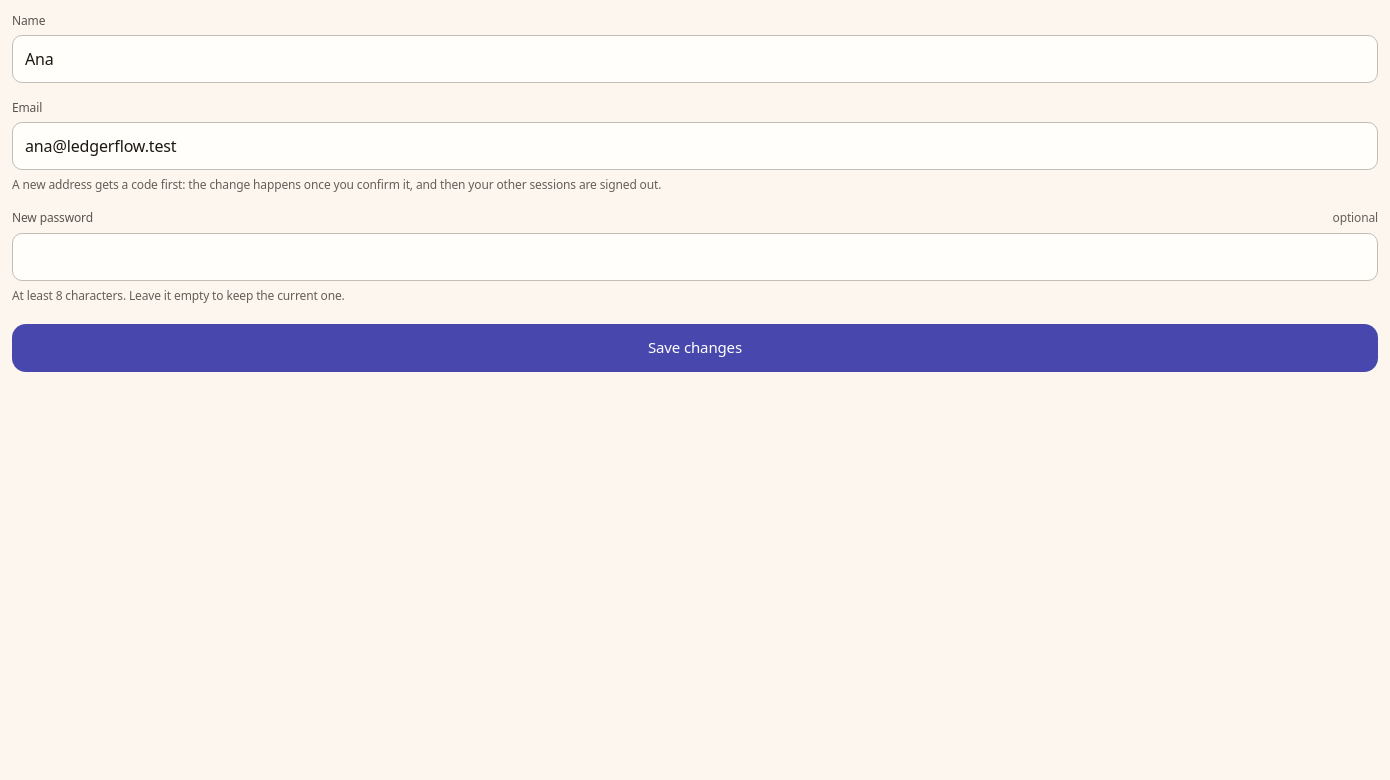
Test: ProfileView › saves nothing when Cloudflare's check is refused, not even the password
Type "Str0ngPass!" into the password field labelled "New password optional" at (695, 257), box [12, 233, 1378, 281]
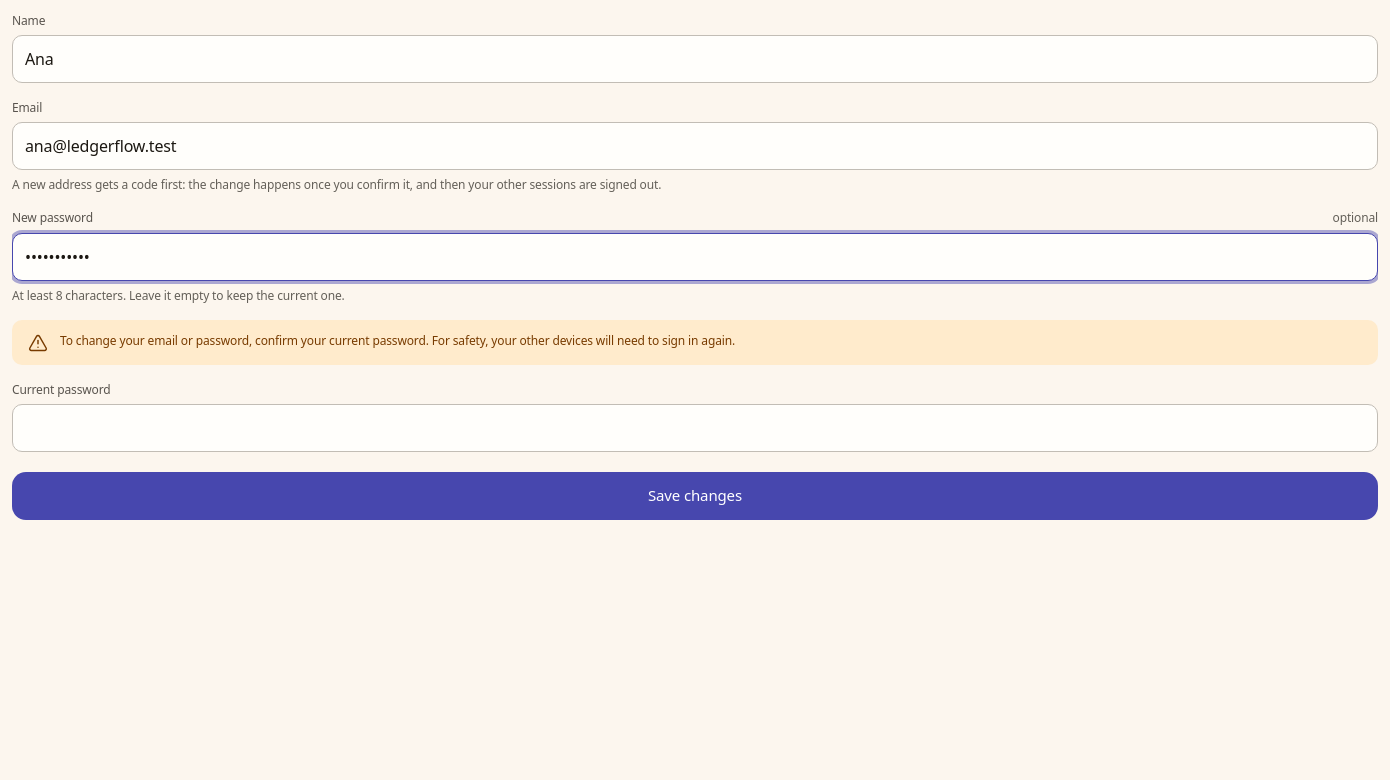
Replace the text in the field labelled "Email" with "new@ledgerflow.test" at (695, 146), box [12, 122, 1378, 170]
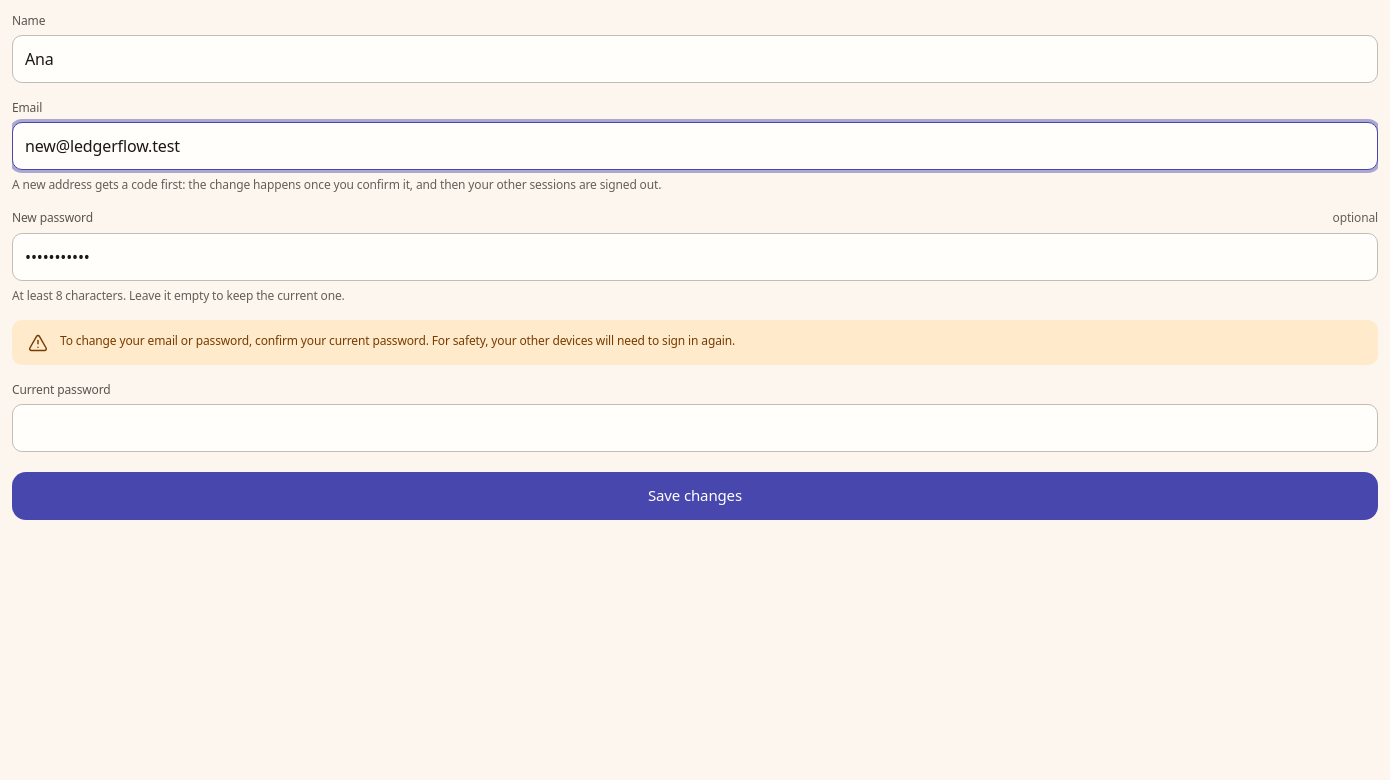
Type "OldPass!2026" into the password field labelled "Current password" at (695, 428), box [12, 404, 1378, 452]
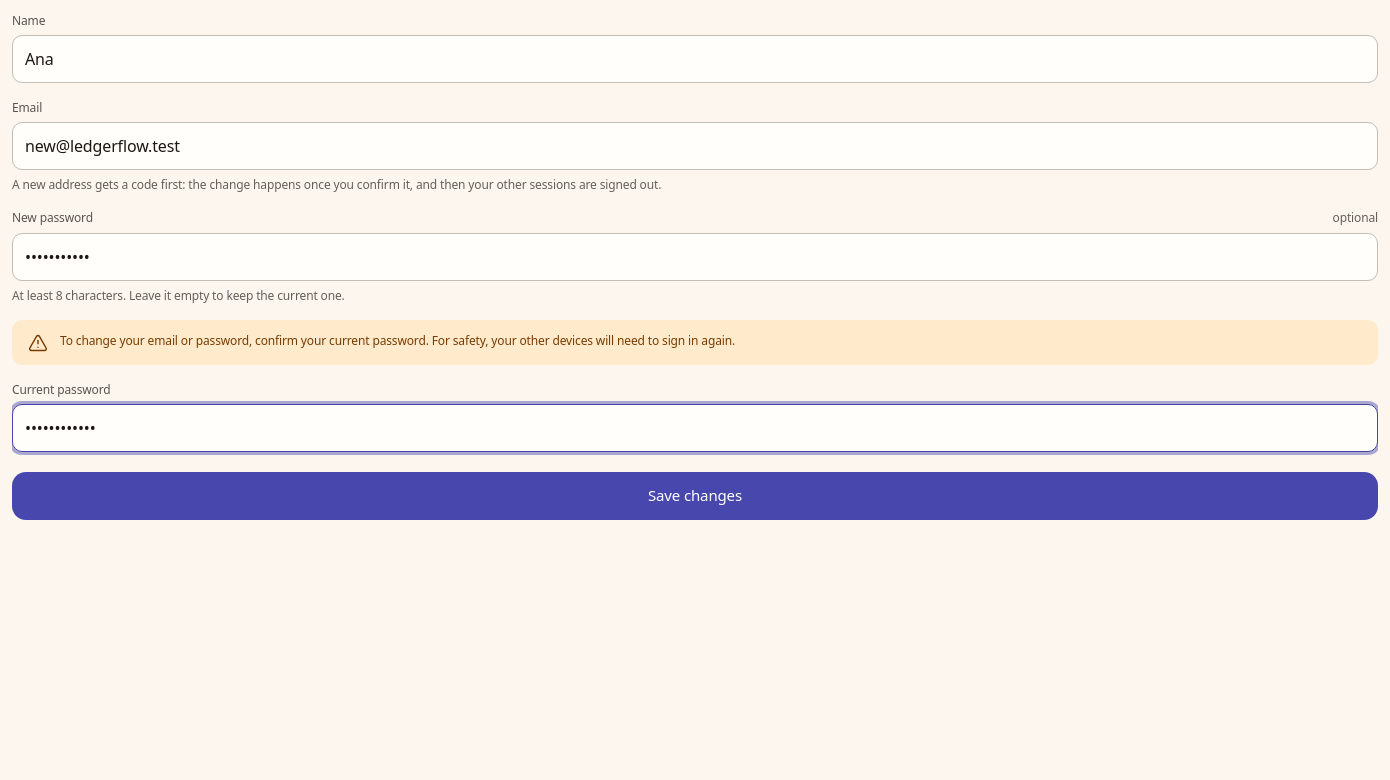
Click the button named "Save changes" at (695, 496), box [12, 472, 1378, 520]
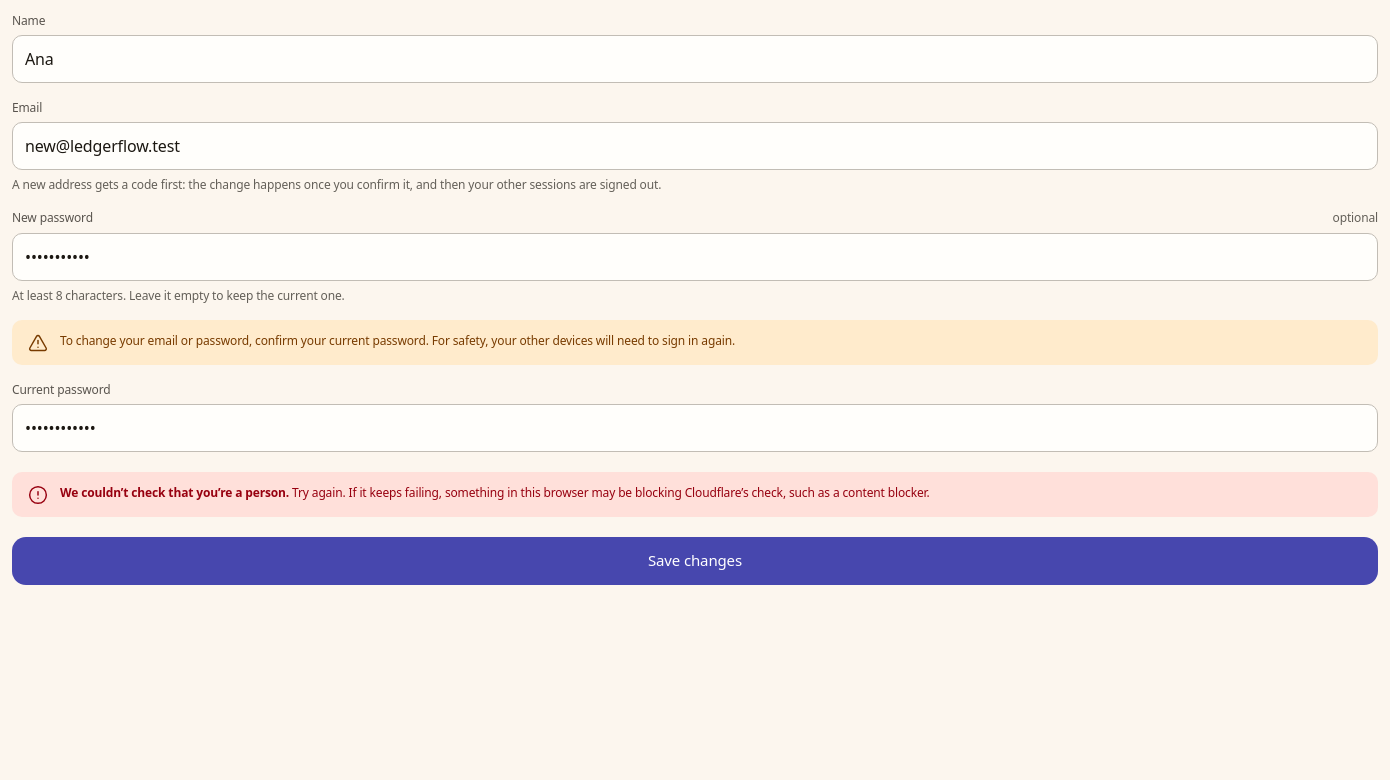
Expected: the text "We couldn’t check that you’re a person." is shown, [60, 484, 289, 501]
